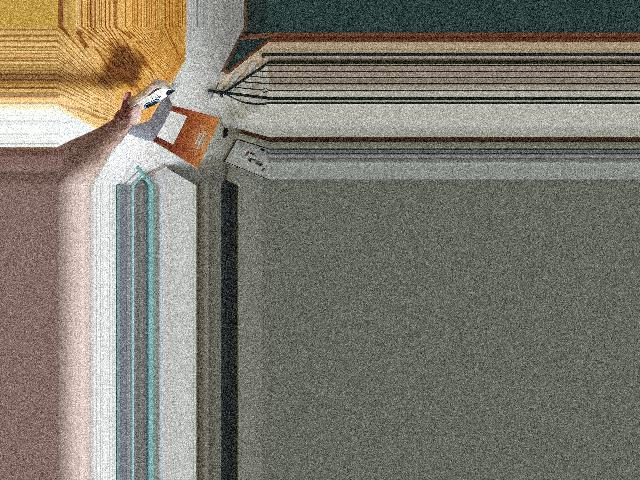cheese: (126, 78, 175, 112)
